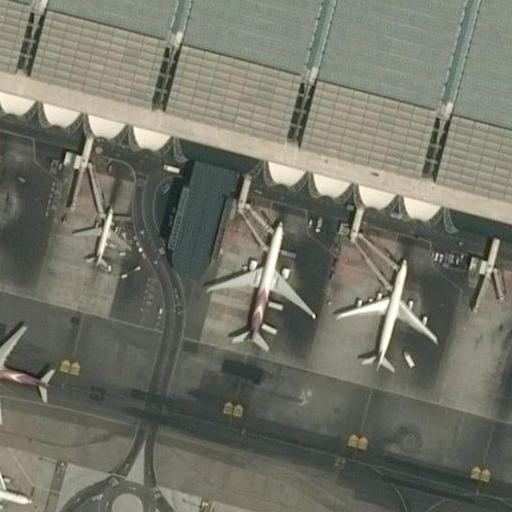Aircraft: (207, 210, 316, 354), (338, 242, 443, 378), (0, 315, 55, 422), (73, 195, 132, 268), (0, 445, 29, 512)
